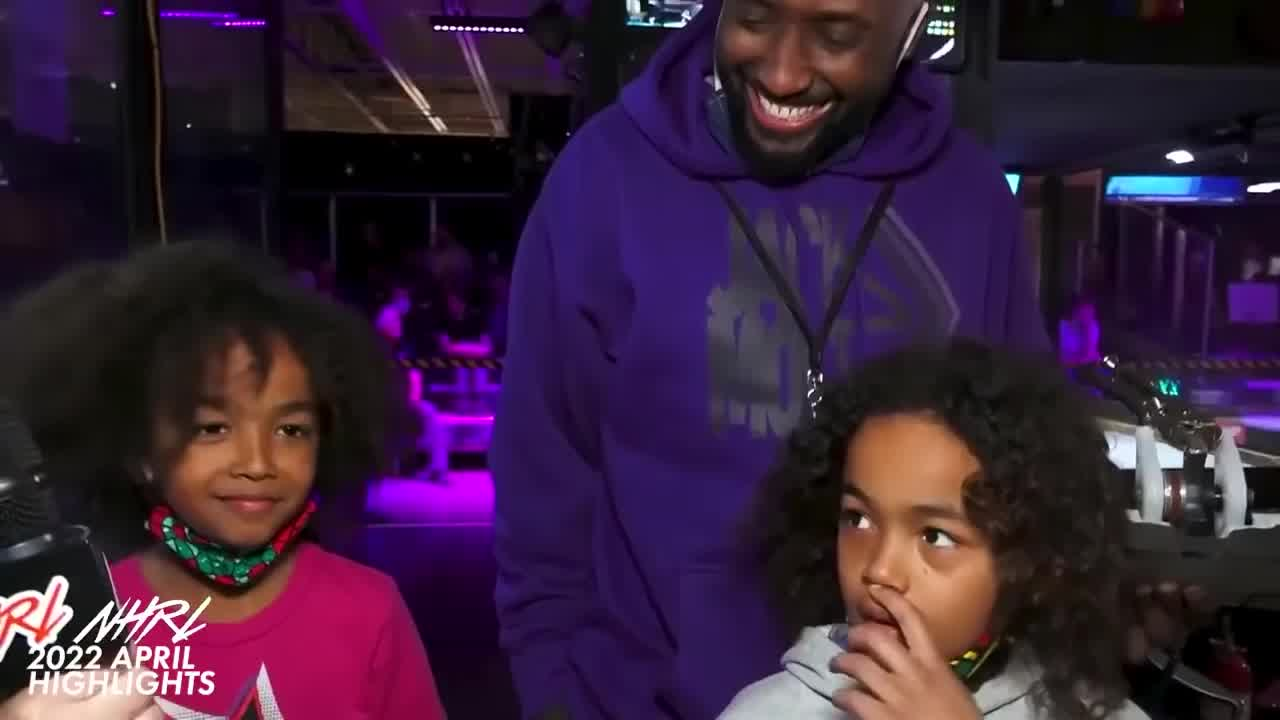combatbot: (1121, 425, 1277, 577)
